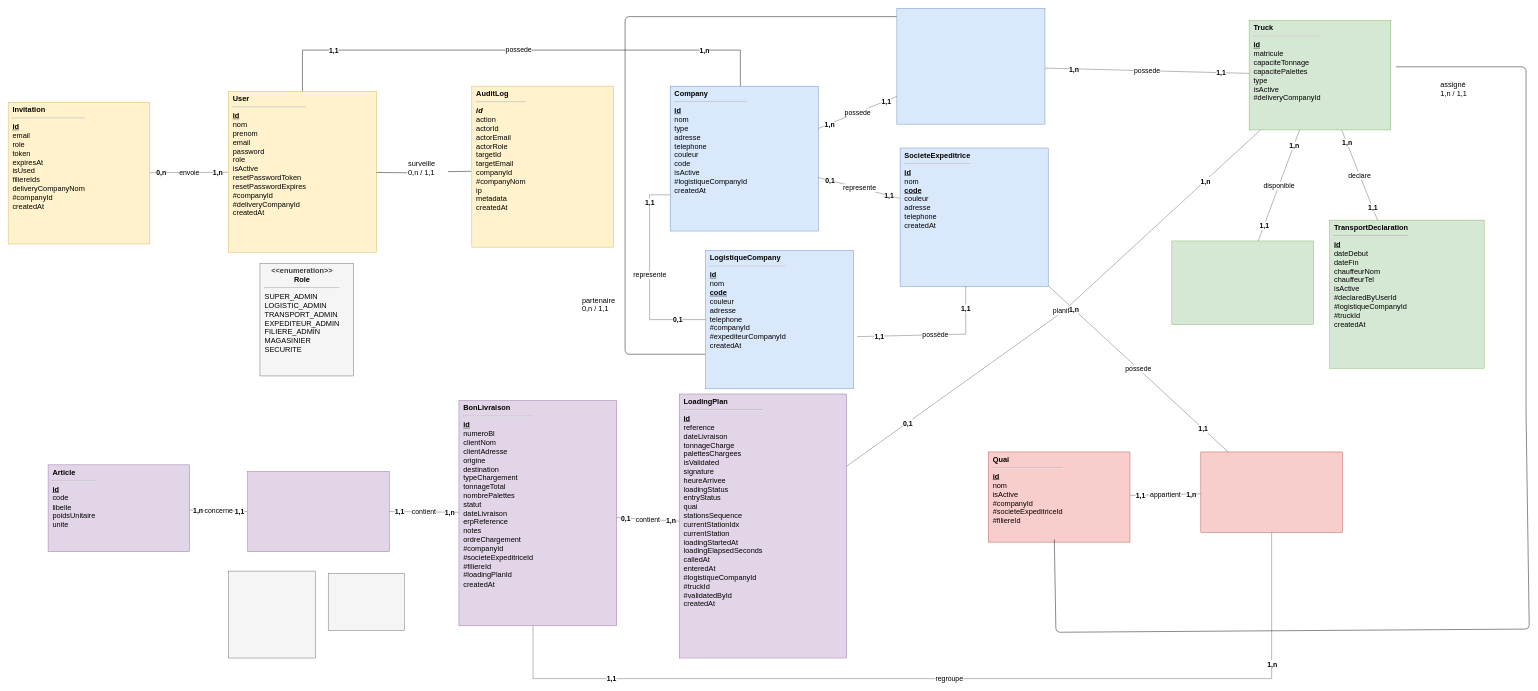
Some shapes in this 1538 by 691 pixel diagram are drawn without their labels. Here are the shapes that lost their labels. From the top down, the box of each, then its label:
(896, 8, 1045, 124): DeliveryCompany id nom adresse telephone isActive createdAt
(1171, 240, 1314, 325): TruckAvailability id date #truckId #companyId createdAt
(247, 471, 389, 552): BlArticle id #bonLivraisonId #articleId quantite poidsTotal
(1200, 451, 1343, 532): Filiere id nom code #societeExpeditriceId
(228, 571, 315, 658): <<enumeration>> TypeChargement VRAC PALETTE FRIGO CITERNE
(328, 573, 404, 630): <<enumeration>> BlStatus DRAFT VALIDATED
